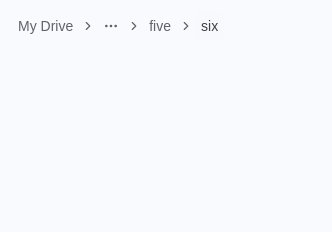
deep trails › lists the hidden folders in path order when the ellipsis is clicked
Click the button named "Show 4 hidden folders": point(111, 26) [97, 14, 125, 38]
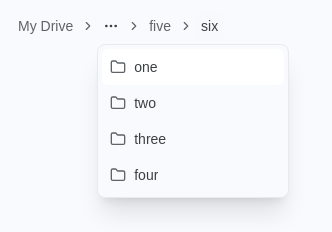
Now the menu items read "one", "two", "three", "four", in this order, box [102, 49, 284, 85]; [102, 85, 284, 121]; [102, 121, 284, 157]; [102, 157, 284, 193]
